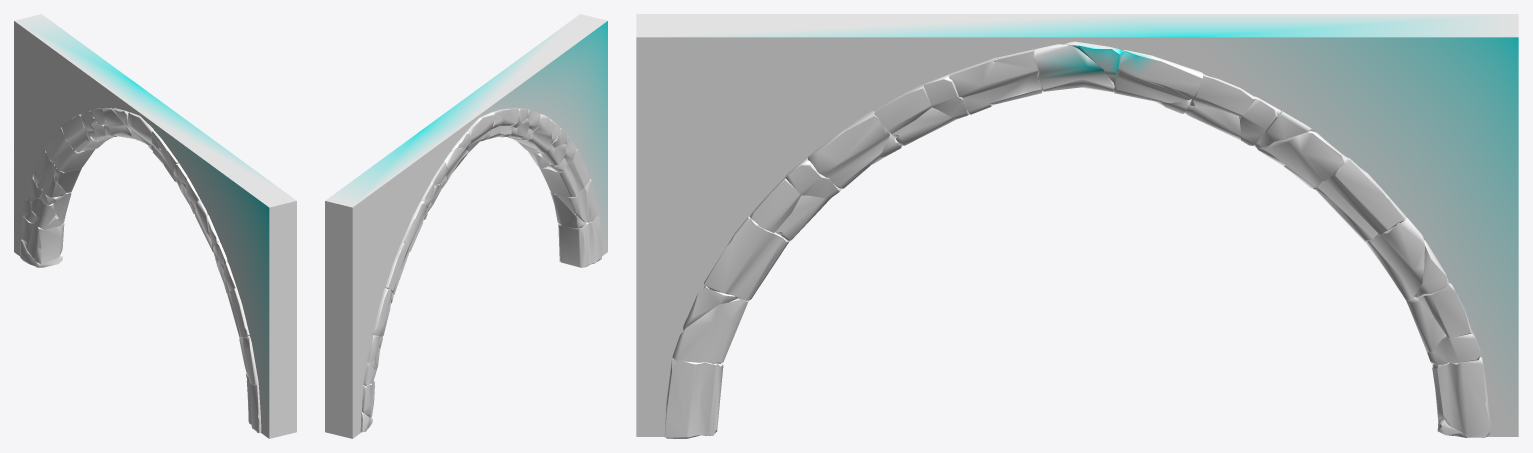
File: SM_ArchWall_OpenArch_8x4_A.glb
3 renders of one model, left to right at view 1: azimuth 30°, elevation 25°; view 2: azimuth 150°, elevation 25°; view 3: azimuth 270°, elevation 25°, orthographic. The views are drawn at different scales.
Visible parts, largest first — view 1: SM_ArchWall_OpenArch_8x4_A_LOD0; view 2: SM_ArchWall_OpenArch_8x4_A_LOD0; view 3: SM_ArchWall_OpenArch_8x4_A_LOD0.
Boxes of the visible parts, box(x1,y1,x2,y2) form: SM_ArchWall_OpenArch_8x4_A_LOD0: box(14, 14, 296, 438); SM_ArchWall_OpenArch_8x4_A_LOD0: box(325, 14, 607, 438); SM_ArchWall_OpenArch_8x4_A_LOD0: box(636, 14, 1518, 438).
Size of the model in its own units: 0.6022 by 4.01 by 8.
